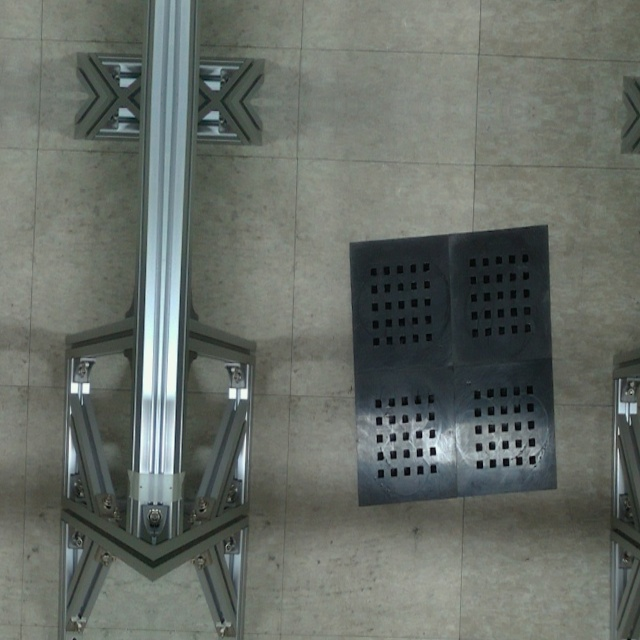pallet: (334, 211, 579, 520)
